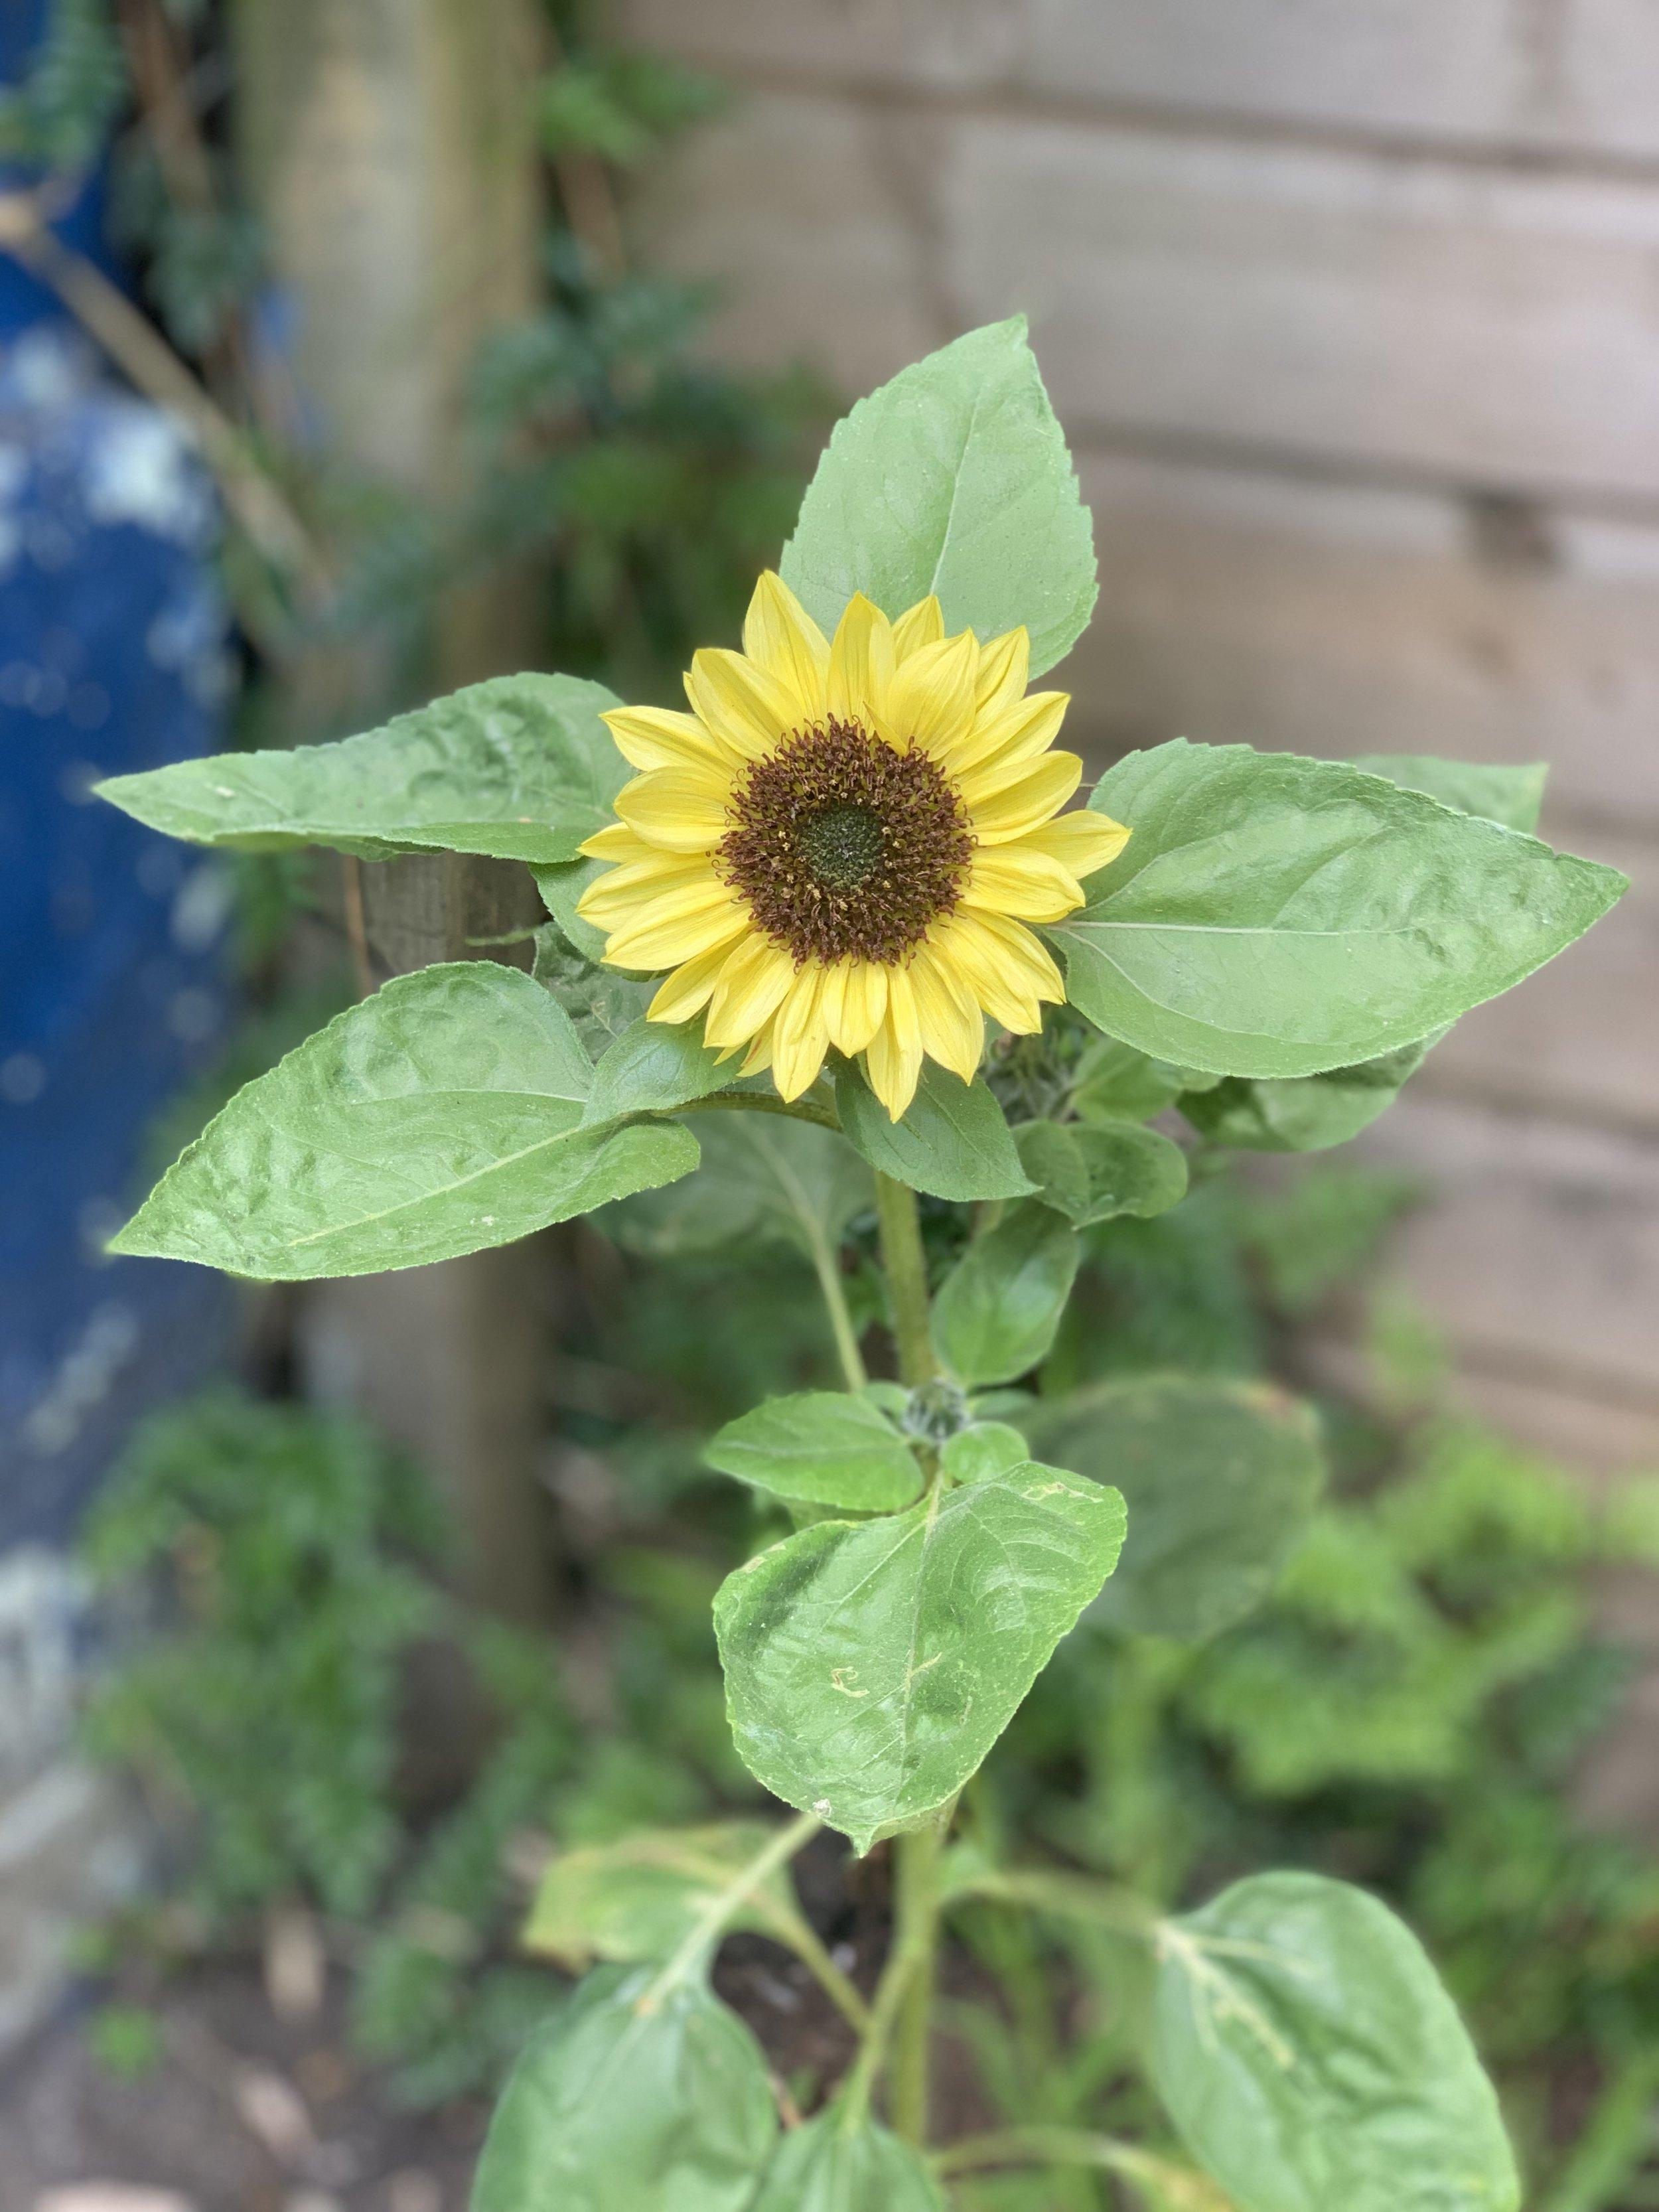sunflower: (505, 514, 1276, 1229)
